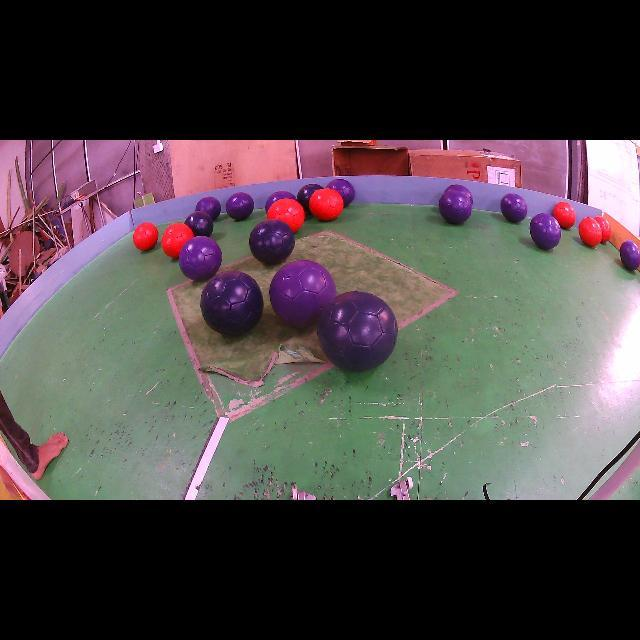B: (318, 291, 398, 371), (200, 270, 264, 336), (249, 219, 295, 264), (185, 211, 214, 236), (296, 184, 322, 211)
P: (270, 260, 336, 328), (179, 236, 222, 281), (439, 190, 472, 224), (530, 214, 561, 249), (326, 179, 355, 207), (226, 192, 254, 220), (500, 194, 528, 222), (265, 191, 296, 212), (195, 196, 221, 220), (620, 240, 640, 271), (444, 184, 474, 204)
R: (268, 199, 305, 232), (161, 222, 194, 258), (309, 188, 344, 221), (132, 222, 159, 251), (579, 218, 602, 246), (554, 201, 576, 229), (594, 216, 611, 242)
